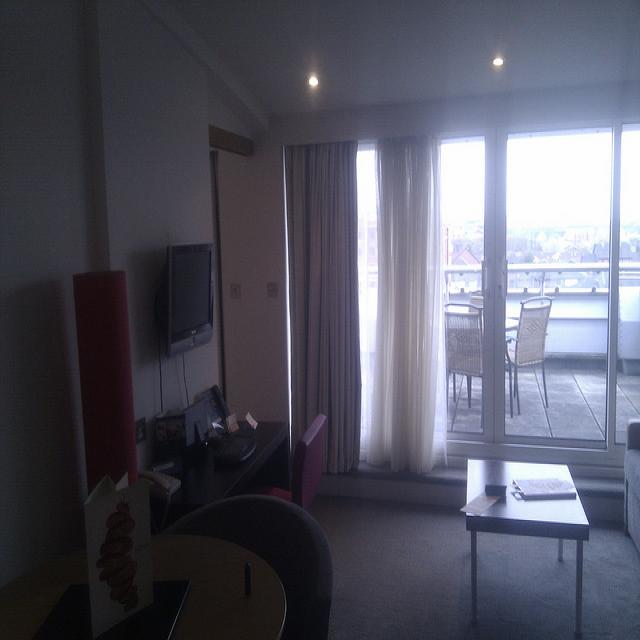chair: (164, 498, 337, 630), (244, 411, 326, 509), (508, 296, 554, 416), (444, 303, 484, 408), (470, 296, 483, 309)
dining table: (1, 534, 286, 639), (464, 454, 590, 631), (505, 318, 519, 332)
